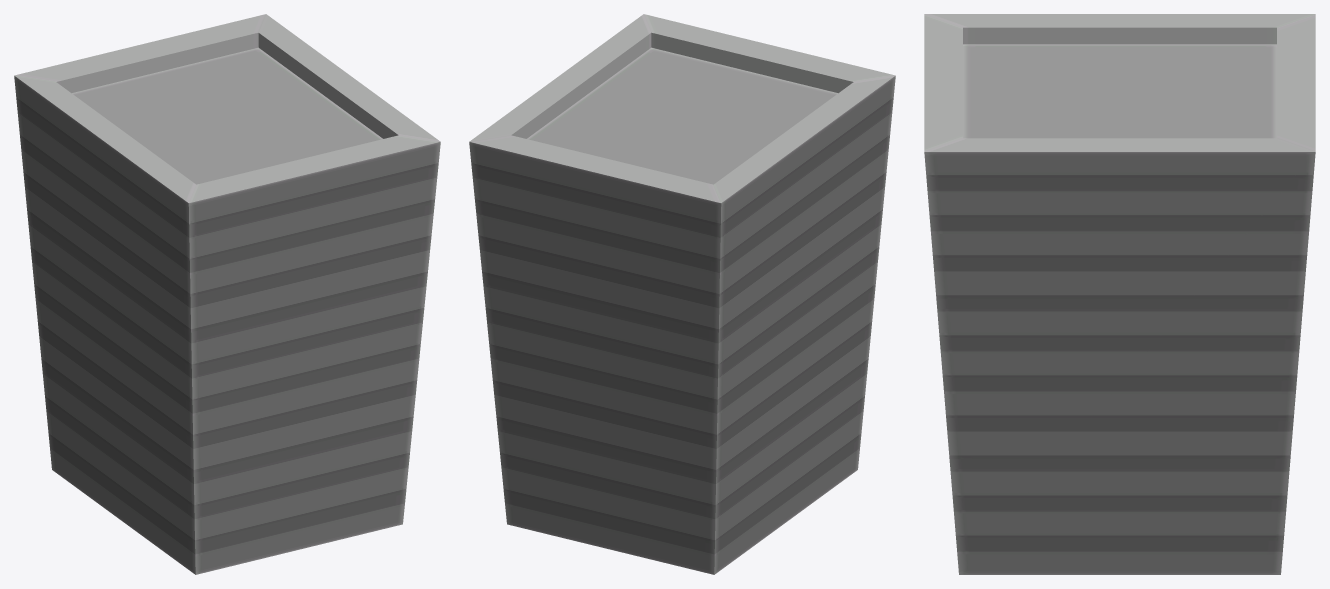
The model's file is Skyscraper_A2.fbx.
3 views of the same model, side by side, from view 1: azimuth 30°, elevation 25°; view 2: azimuth 150°, elevation 25°; view 3: azimuth 270°, elevation 25° (orthographic). The views are drawn at different scales.
Parts seen in each view (by area): view 1: Skyscraper_A2; view 2: Skyscraper_A2; view 3: Skyscraper_A2.
Part boxes in pixels (x1,y1,x2,y2): Skyscraper_A2: [14, 14, 440, 574]; Skyscraper_A2: [469, 14, 895, 574]; Skyscraper_A2: [924, 14, 1315, 574].
Bounding box in the file's own units: 0.8522 × 1.25 × 1.02.
